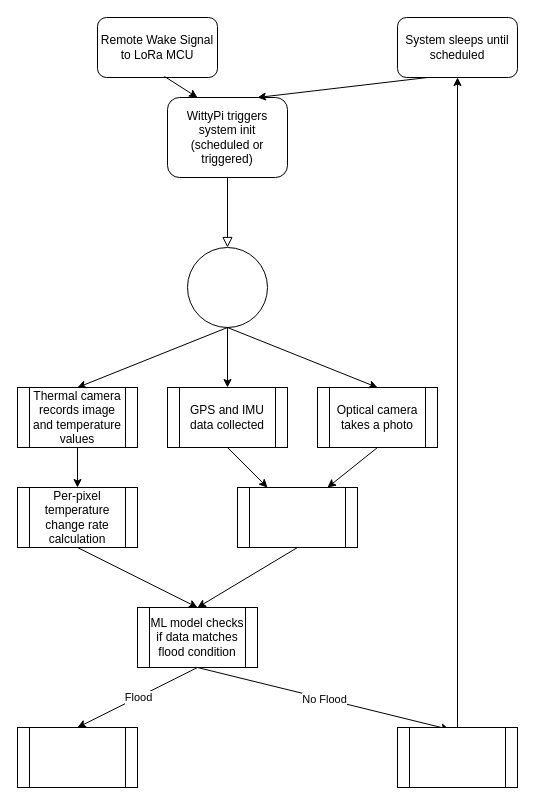
This 535x805 diagram has some shape labels left out. Here are the shapes that lost their labels. From the top down, the box of each, then its label:
(186, 246, 268, 328): Python Recording Script
(236, 486, 358, 548): Embed GPS and IMU data into Image EXIF/XMP
(16, 726, 138, 788): Send alert and data over Cellular modem / LoRa
(396, 726, 518, 788): Resume schedule
